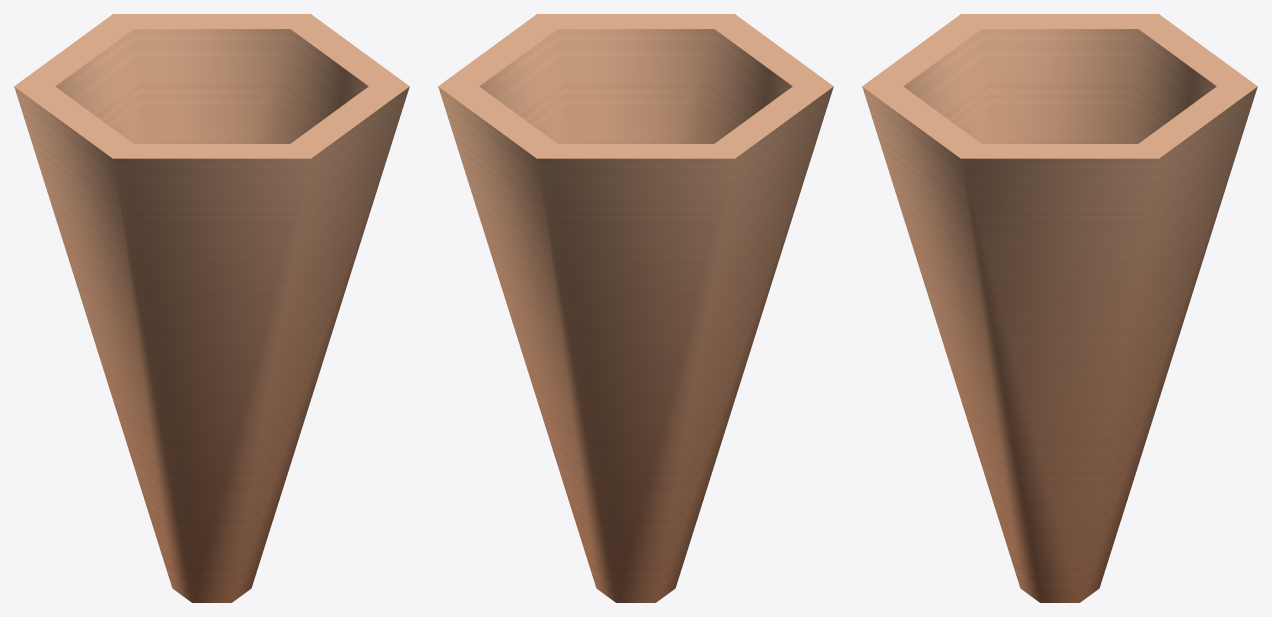
Rendered from ice-cream-cne.glb.
The picture shows the model from 3 angles, left to right: view 1: azimuth 30°, elevation 25°; view 2: azimuth 150°, elevation 25°; view 3: azimuth 270°, elevation 25°; orthographic projection.
Visible parts, largest first — view 1: ice-cream-cne; view 2: ice-cream-cne; view 3: ice-cream-cne.
Part boxes in pixels (x1,y1,x2,y2): ice-cream-cne: [14, 14, 409, 602]; ice-cream-cne: [438, 14, 833, 602]; ice-cream-cne: [862, 14, 1257, 602].
Size of the model in its own units: 0.1845 by 0.2982 by 0.213.
1 material, 1 textured.
